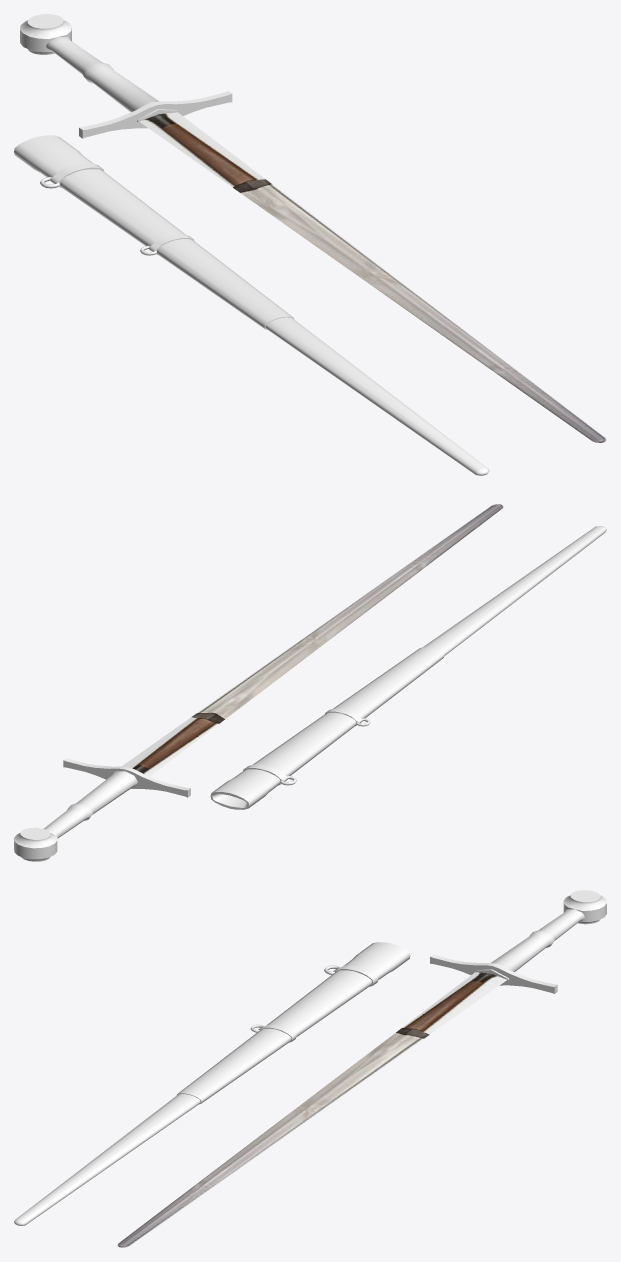
File: MySword.fbx
3 renders of one model, top to bottom at view 1: azimuth 30°, elevation 25°; view 2: azimuth 150°, elevation 25°; view 3: azimuth 330°, elevation 25°, orthographic. The views are drawn at different scales.
Parts seen in each view (by area): view 1: MySword, MySword.002; view 2: MySword, MySword.002; view 3: MySword, MySword.002.
Boxes of the visible parts, x1,y1,x2,y2 form: MySword: [20, 14, 606, 442]; MySword.002: [14, 135, 489, 475]; MySword: [14, 504, 503, 861]; MySword.002: [210, 526, 606, 809]; MySword: [117, 890, 606, 1247]; MySword.002: [14, 942, 410, 1225].
Bounding box in the file's own units: 31.13 × 3.35 × 133.
